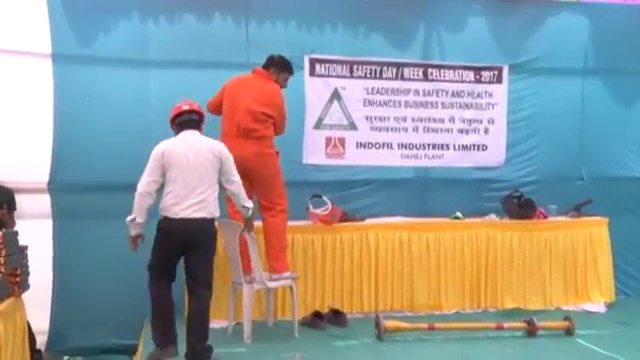helmet: (166, 100, 207, 125)
helmet_off: (257, 51, 296, 94)
helmet_on: (165, 99, 206, 138)
person: (120, 99, 258, 360), (210, 51, 308, 285)
